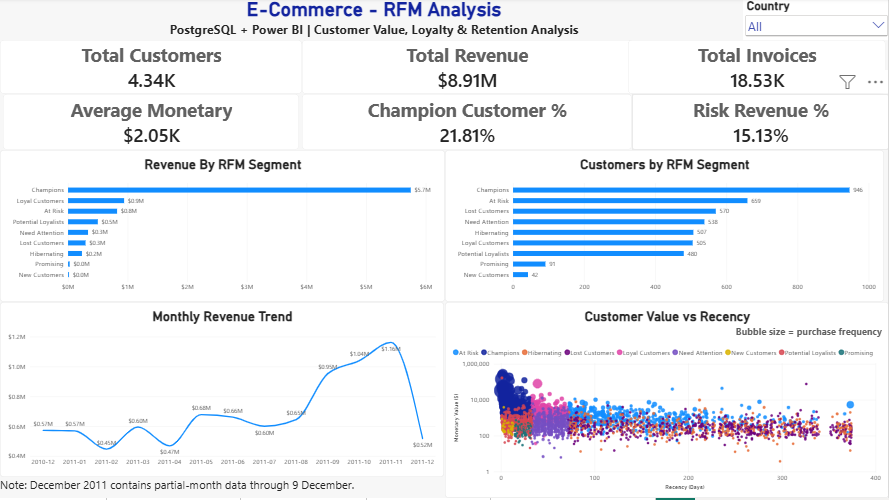

This screenshot's page, from the dashboard's own definition file:
{"tool":"powerbi","page":{"name":"Executive Overview","canvas":[1920,1080],"ordinal":0},"visuals":[{"type":"textbox","title":"E-Commerce - RFM Analysis","box":[10.8,0,1594.1,90.7],"z":0},{"type":"cardVisual","fields":{"Data":["RFM Customers.Total Customers"]},"box":[0,91.7,652.1,116.7],"z":1000},{"type":"cardVisual","fields":{"Data":["Clean Transactions.Total Revenue"]},"box":[652.1,91.7,712.5,116.7],"z":2000},{"type":"cardVisual","fields":{"Data":["Clean Transactions.Total Invoices"]},"box":[1356.2,91.7,556.2,116.7],"z":3000},{"type":"cardVisual","fields":{"Data":["RFM Customers.Average Monetary"]},"box":[6.5,207.4,639.4,121],"z":4000},{"type":"cardVisual","fields":{"Data":["RFM Customers.Champion Customer %"]},"box":[652.3,207.4,712.8,121],"z":5000},{"type":"cardVisual","fields":{"Data":["RFM Customers.Risk Revenue %"]},"box":[1365.1,207.4,555.1,121],"z":6000},{"type":"clusteredBarChart","title":"Revenue By RFM Segment","fields":{"Category":["RFM Customers.customer_segment"],"Y":["Clean Transactions.Total Revenue"]},"box":[0,328.3,961.2,328.3],"z":7000},{"type":"clusteredBarChart","title":"Customers by RFM Segment","fields":{"Category":["RFM Customers.customer_segment"],"Y":["RFM Customers.Total Customers"]},"box":[961.2,328.3,948.2,328.3],"z":8000},{"type":"lineChart","title":"Monthly Revenue Trend","fields":{"Category":["Calender.Year Month"],"Y":["Clean Transactions.Total Revenue"]},"box":[0,656.6,959,378],"z":9000},{"type":"scatterChart","title":"Customer Value vs Recency","fields":{"Series":["RFM Customers.customer_segment"],"Size":["Sum(RFM Customers.frequency)"],"X":["RFM Customers.recency"],"Y":["RFM Customers.monetary"]},"box":[961.2,656.6,959,423.4],"z":10000},{"type":"slicer","fields":{"Values":["RFM Customers.home_country"]},"box":[1604.9,0,317.5,90.7],"z":11000},{"type":"textbox","box":[0,1034.6,894.2,45.4],"z":12000}]}

Visuals, with their boxes in screenshot pixels (x1, y1, x2, y2), scaled from the page's 1920x1080 canvas onto the 889x500 screenshot:
"E-Commerce - RFM Analysis" textbox: 5,0,743,42
cardVisual - RFM Customers.Total Customers: 0,42,302,96
cardVisual - Clean Transactions.Total Revenue: 302,42,632,96
cardVisual - Clean Transactions.Total Invoices: 628,42,885,96
cardVisual - RFM Customers.Average Monetary: 3,96,299,152
cardVisual - RFM Customers.Champion Customer %: 302,96,632,152
cardVisual - RFM Customers.Risk Revenue %: 632,96,888,152
"Revenue By RFM Segment" clusteredBarChart: 0,152,445,304
"Customers by RFM Segment" clusteredBarChart: 445,152,884,304
"Monthly Revenue Trend" lineChart: 0,304,444,479
"Customer Value vs Recency" scatterChart: 445,304,888,499
slicer - RFM Customers.home_country: 743,0,888,42
textbox: 0,479,414,499
